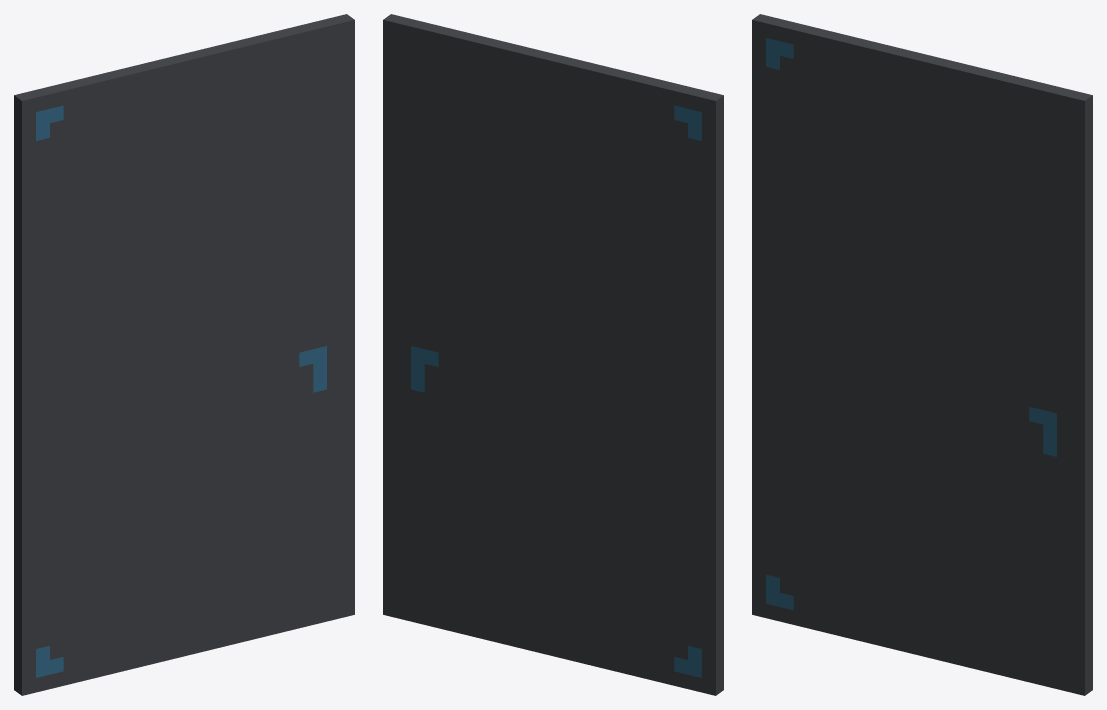
Rendered from door-blue.obj.
The picture shows the model from 3 angles, left to right: view 1: azimuth 30°, elevation 25°; view 2: azimuth 150°, elevation 25°; view 3: azimuth 330°, elevation 25°; orthographic projection.
Size of the model in its own units: 2.4 by 4.1 by 0.1.
Materials: 1 (1 with a texture image).
